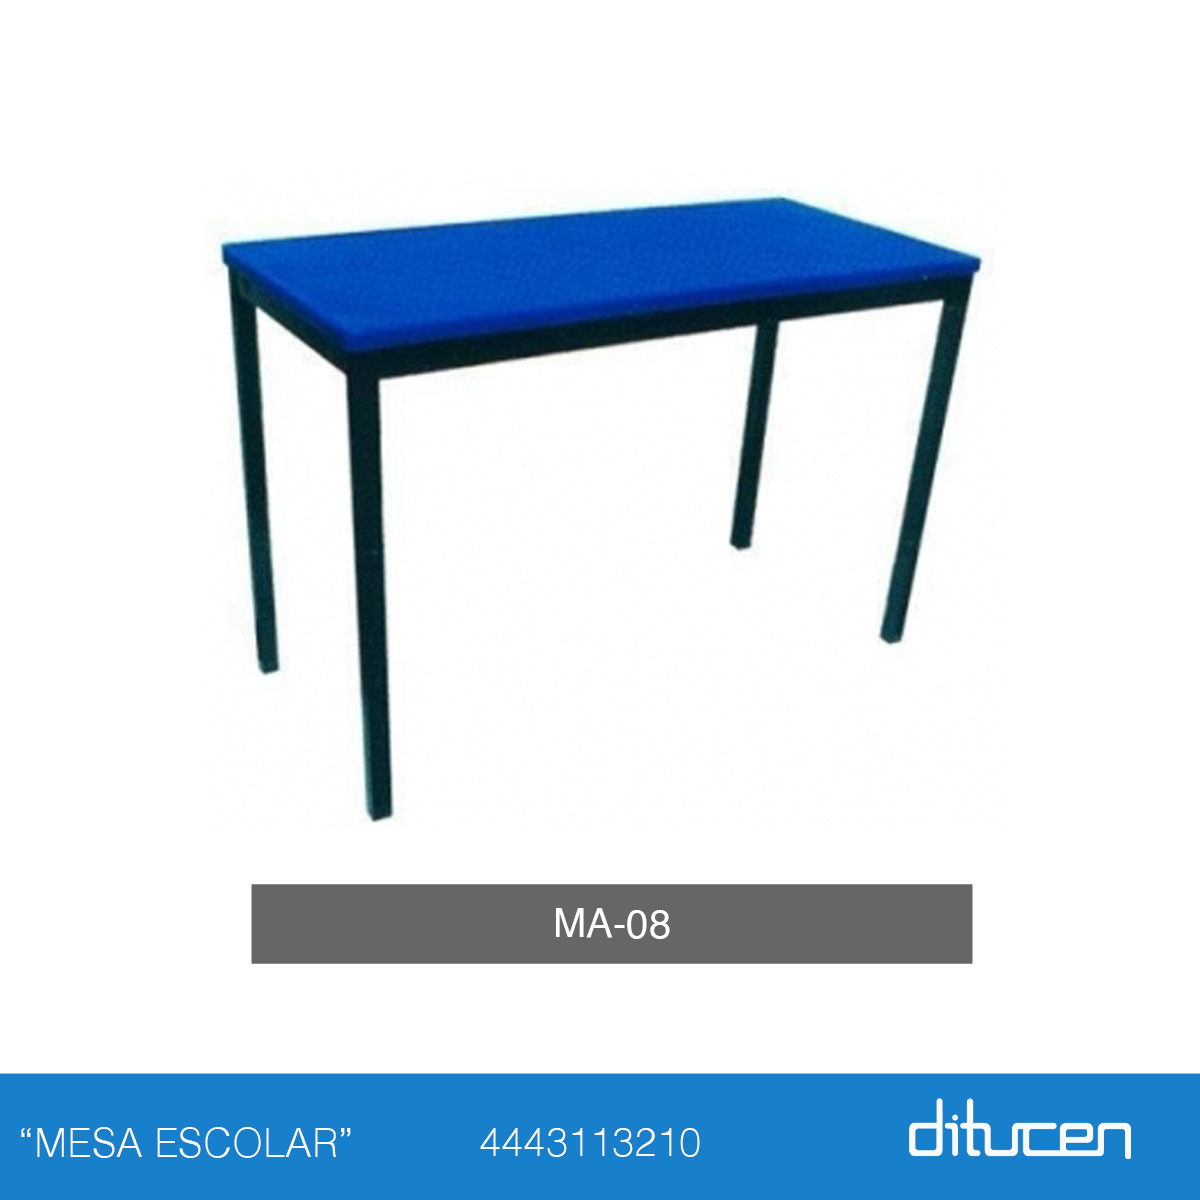m01: (221, 197, 982, 824)
